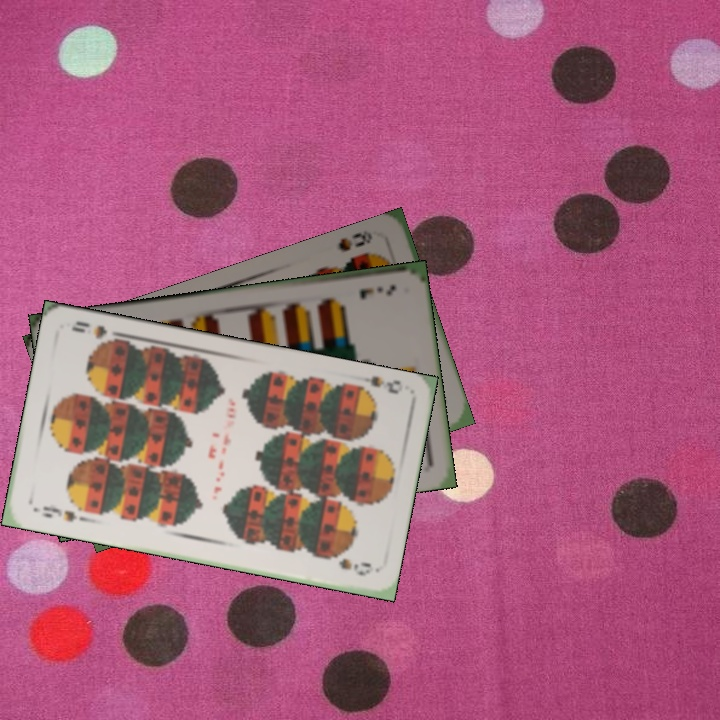E7: (355, 280, 399, 302)
S8: (334, 226, 376, 254)
S9: (349, 372, 403, 399), (38, 500, 79, 525)
